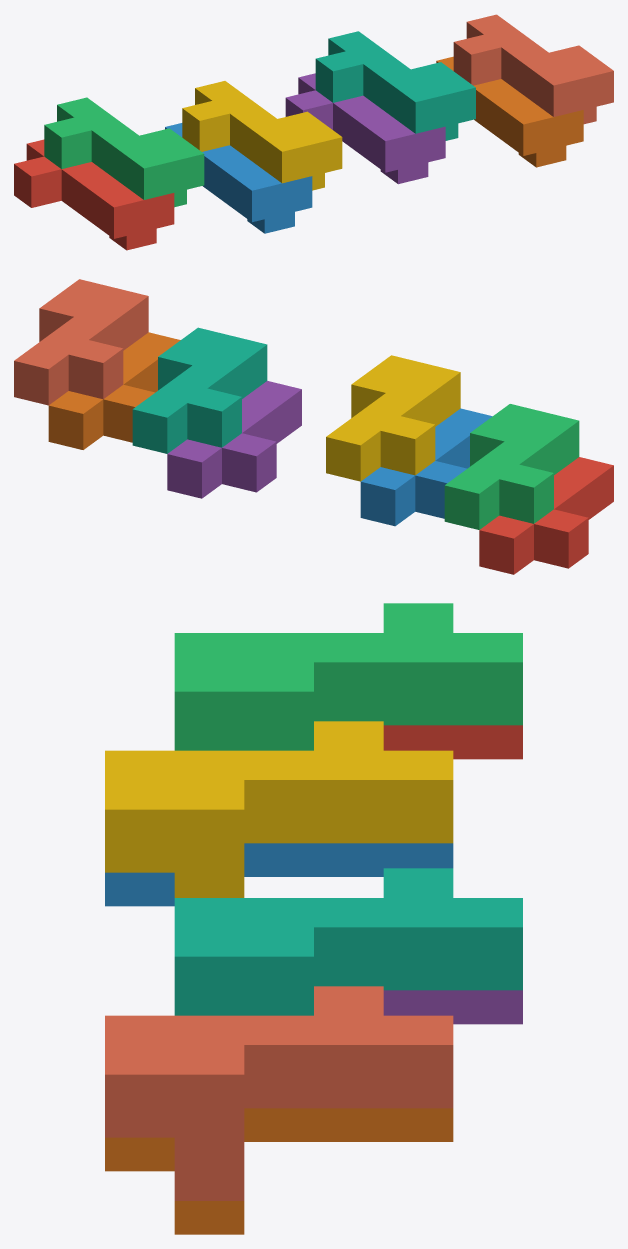
File: tiling.obj
3 views of the same model, one above another, from view 1: azimuth 30°, elevation 25°; view 2: azimuth 150°, elevation 25°; view 3: azimuth 270°, elevation 25° (orthographic). The views are drawn at different scales.
Parts seen in each view (by area): view 1: copy_1_domain_7, copy_1_domain_3, copy_1_domain_8, copy_1_domain_4, copy_1_domain_1, copy_1_domain_5, copy_1_domain_2, copy_1_domain_6; view 2: copy_1_domain_8, copy_1_domain_7, copy_1_domain_3, copy_1_domain_4, copy_1_domain_1, copy_1_domain_5, copy_1_domain_2, copy_1_domain_6; view 3: copy_1_domain_8, copy_1_domain_4, copy_1_domain_3, copy_1_domain_7, copy_1_domain_6, copy_1_domain_2, copy_1_domain_1, copy_1_domain_5.
Part boxes in pixels (x1=…): copy_1_domain_7: x1=315, y1=31, x2=475, y2=140; copy_1_domain_3: x1=44, y1=97, x2=204, y2=207; copy_1_domain_8: x1=453, y1=14, x2=613, y2=124; copy_1_domain_4: x1=182, y1=81, x2=342, y2=190; copy_1_domain_1: x1=14, y1=139, x2=174, y2=250; copy_1_domain_5: x1=285, y1=73, x2=445, y2=184; copy_1_domain_2: x1=165, y1=123, x2=312, y2=233; copy_1_domain_6: x1=436, y1=56, x2=583, y2=167; copy_1_domain_8: x1=14, y1=279, x2=148, y2=405; copy_1_domain_7: x1=132, y1=327, x2=267, y2=453; copy_1_domain_3: x1=444, y1=404, x2=579, y2=529; copy_1_domain_4: x1=326, y1=355, x2=460, y2=481; copy_1_domain_1: x1=479, y1=457, x2=613, y2=574; copy_1_domain_5: x1=167, y1=381, x2=301, y2=498; copy_1_domain_2: x1=360, y1=408, x2=492, y2=526; copy_1_domain_6: x1=48, y1=332, x2=180, y2=449; copy_1_domain_8: x1=105, y1=986, x2=453, y2=1200; copy_1_domain_4: x1=105, y1=721, x2=453, y2=897; copy_1_domain_3: x1=174, y1=603, x2=522, y2=750; copy_1_domain_7: x1=174, y1=868, x2=522, y2=1015; copy_1_domain_6: x1=105, y1=1108, x2=453, y2=1234; copy_1_domain_2: x1=105, y1=843, x2=453, y2=906; copy_1_domain_1: x1=383, y1=725, x2=522, y2=759; copy_1_domain_5: x1=383, y1=990, x2=522, y2=1024.
Bounding box in the file's own units: 17 × 3 × 6.
